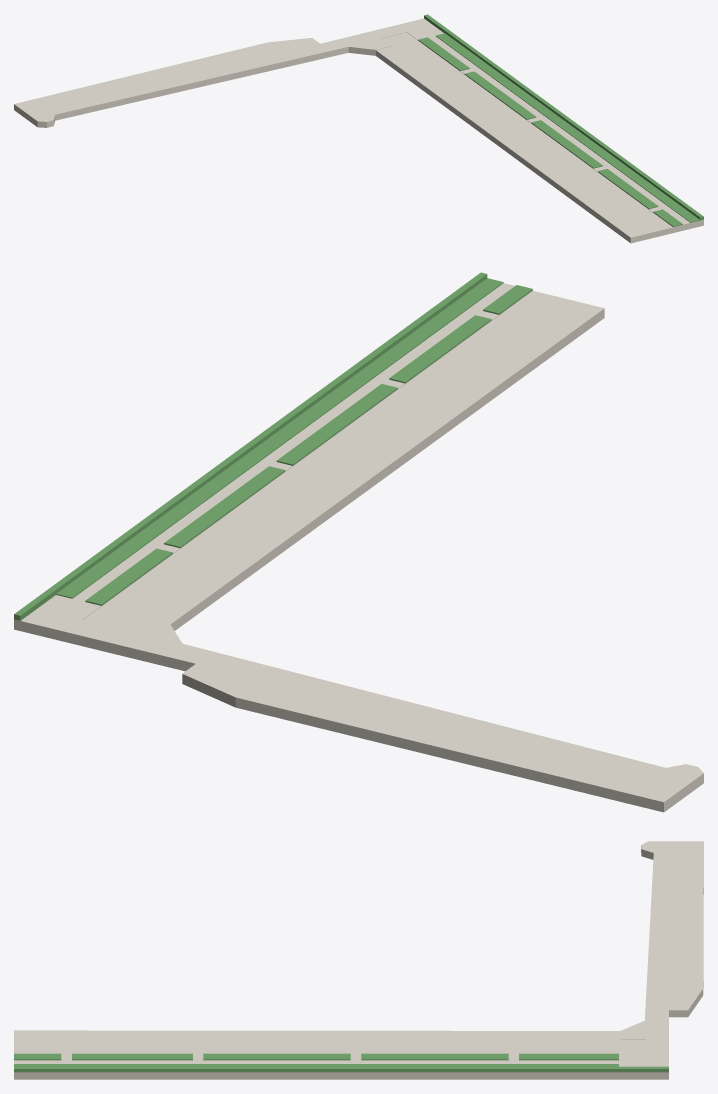
The model's file is SM_Blockout_Passeggiata_Pav.fbx.
3 views of the same model, one above another, from view 1: azimuth 30°, elevation 25°; view 2: azimuth 150°, elevation 25°; view 3: azimuth 270°, elevation 25° (orthographic). The views are drawn at different scales.
Parts seen in each view (by area): view 1: SM_Blockout_PassPav_Lastra, SM_Blockout_PassPav_Molo, SM_Blockout_PassPav_Aiuole, SM_Blockout_PassPav_SiepeLimite; view 2: SM_Blockout_PassPav_Lastra, SM_Blockout_PassPav_Molo, SM_Blockout_PassPav_Aiuole, SM_Blockout_PassPav_SiepeLimite; view 3: SM_Blockout_PassPav_Lastra, SM_Blockout_PassPav_Molo, SM_Blockout_PassPav_Aiuole, SM_Blockout_PassPav_SiepeLimite.
Boxes of the visible parts, bbox=[...] form: SM_Blockout_PassPav_Lastra: bbox=[320, 18, 703, 243]; SM_Blockout_PassPav_Molo: bbox=[14, 38, 330, 127]; SM_Blockout_PassPav_Aiuole: bbox=[418, 33, 699, 226]; SM_Blockout_PassPav_SiepeLimite: bbox=[424, 14, 703, 220]; SM_Blockout_PassPav_Lastra: bbox=[14, 283, 604, 671]; SM_Blockout_PassPav_Molo: bbox=[182, 651, 703, 812]; SM_Blockout_PassPav_Aiuole: bbox=[56, 278, 532, 605]; SM_Blockout_PassPav_SiepeLimite: bbox=[14, 272, 487, 620]; SM_Blockout_PassPav_Lastra: bbox=[14, 1010, 668, 1079]; SM_Blockout_PassPav_Molo: bbox=[641, 841, 703, 1017]; SM_Blockout_PassPav_Aiuole: bbox=[14, 1053, 618, 1066]; SM_Blockout_PassPav_SiepeLimite: bbox=[14, 1066, 668, 1072].
Size of what is drawn, in the model's own units: 20780 by 26230 by 450.
